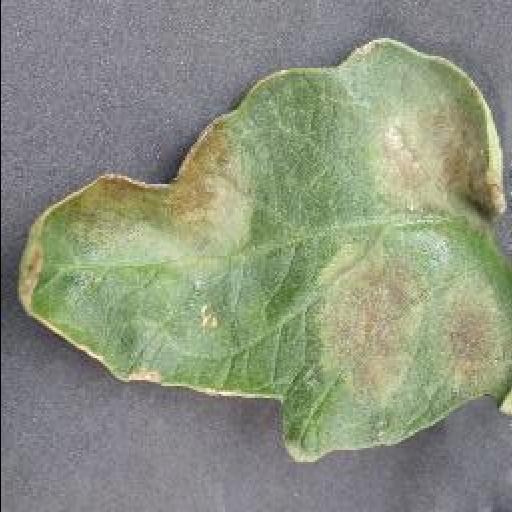disease_tomato: (20, 36, 512, 466)
